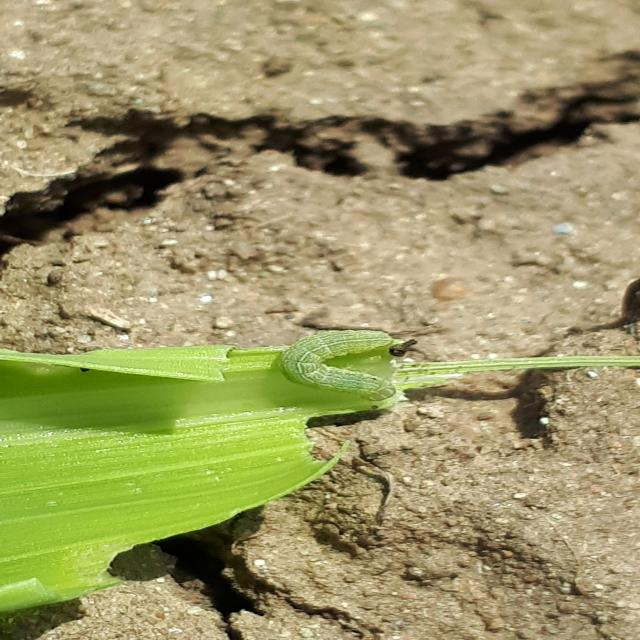armyworm: (286, 332, 406, 405)
